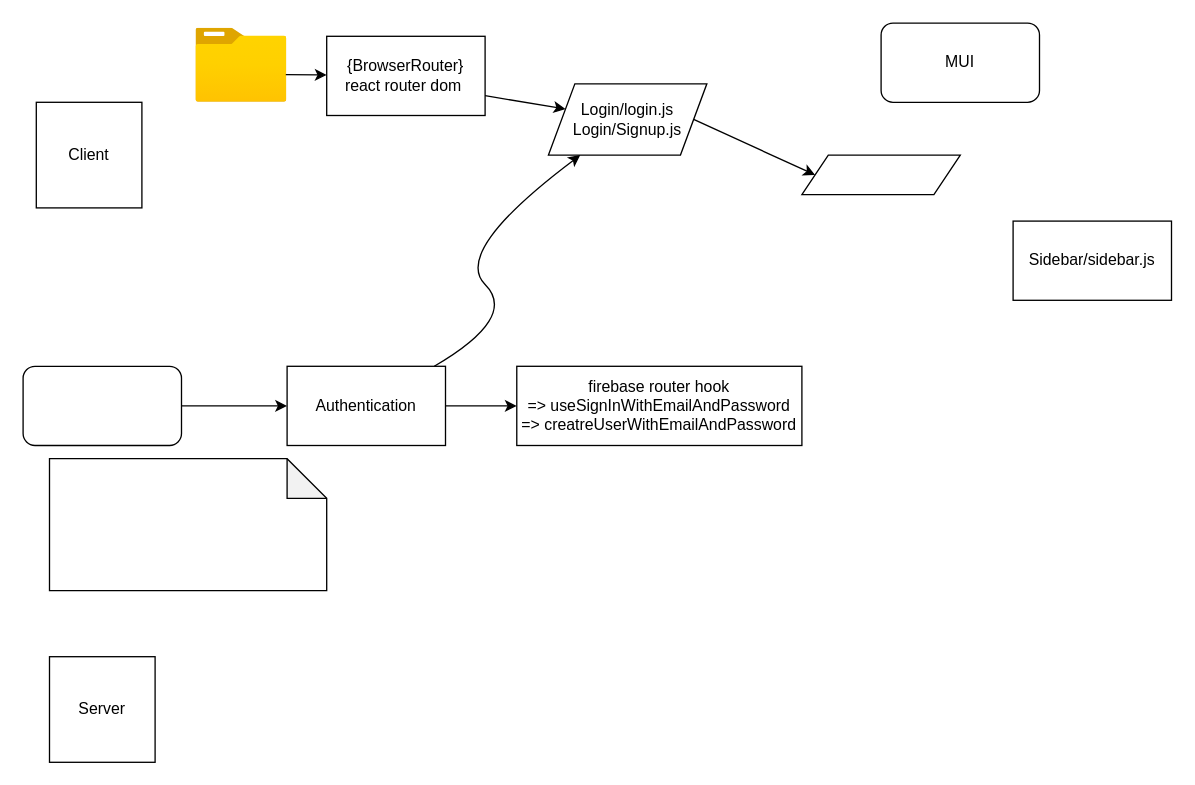
The diagram is 1195 pixels wide and 785 high, and some of its shapes have lost their labels. The centre of each missing label's shape, as x and y in pixels:
../home.js: the point at 880,174
firebase: the point at 102,405
Firebase.init.js => initilizeApp and auth firebase hooks: the point at 187,524
Pages: the point at 240,65
